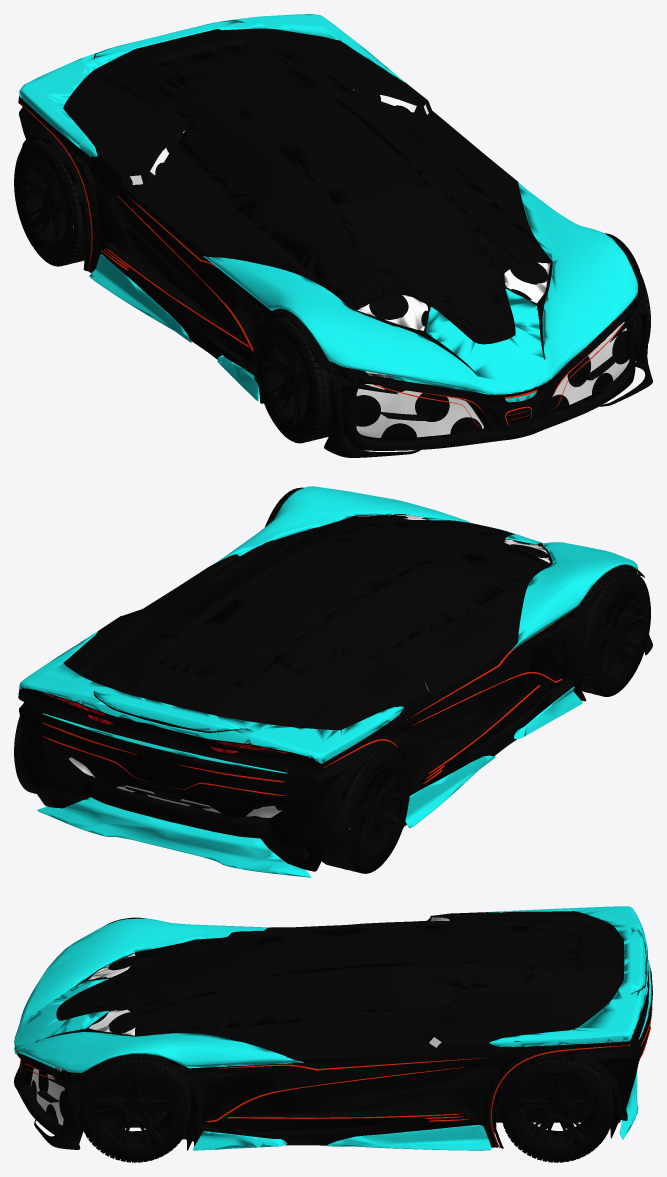
The model's file is neon.glb.
3 views of the same model, one above another, from view 1: azimuth 30°, elevation 25°; view 2: azimuth 150°, elevation 25°; view 3: azimuth 270°, elevation 25° (orthographic). The views are drawn at different scales.
Visible parts, largest first — view 1: Cube_plastic_smooth_0, Cube.006_body_0, tire_001_R17.001_rubber_tires_0, Cube.024_blocker_0, Cube.004_grill_0, tire_001_R17.001_tire_protector_0, Cube.014_red_deco_0; view 2: Cube_plastic_smooth_0, Cube.006_body_0, tire_001_R17.001_rubber_tires_0, tire_001_R17.001_tire_protector_0, Cube.014_red_deco_0, Cube.024_blocker_0, Cube.004_grill_0, Cube.016_taillights_0; view 3: Cube_plastic_smooth_0, Cube.006_body_0, tire_001_R17.001_rubber_tires_0, Cube.024_blocker_0, Cube.014_red_deco_0, Cube.004_grill_0, tire_001_R17.001_tire_protector_0.
Part boxes in pixels (x1,y1,x2,y2): Cube_plastic_smooth_0: [18, 20, 652, 457]; Cube.006_body_0: [19, 14, 638, 402]; tire_001_R17.001_rubber_tires_0: [14, 140, 650, 443]; Cube.024_blocker_0: [71, 28, 633, 438]; Cube.004_grill_0: [129, 89, 629, 437]; tire_001_R17.001_tire_protector_0: [30, 140, 650, 442]; Cube.014_red_deco_0: [18, 101, 622, 426]; Cube_plastic_smooth_0: [18, 487, 652, 871]; Cube.006_body_0: [19, 486, 638, 877]; tire_001_R17.001_rubber_tires_0: [14, 570, 650, 873]; tire_001_R17.001_tire_protector_0: [14, 570, 649, 872]; Cube.014_red_deco_0: [42, 623, 561, 795]; Cube.024_blocker_0: [42, 514, 633, 856]; Cube.004_grill_0: [69, 514, 549, 817]; Cube.016_taillights_0: [43, 693, 289, 753]; Cube_plastic_smooth_0: [14, 911, 652, 1150]; Cube.006_body_0: [14, 906, 651, 1150]; tire_001_R17.001_rubber_tires_0: [79, 1059, 612, 1162]; Cube.024_blocker_0: [31, 911, 629, 1147]; Cube.014_red_deco_0: [15, 1006, 652, 1147]; Cube.004_grill_0: [30, 917, 449, 1125]; tire_001_R17.001_tire_protector_0: [79, 1059, 612, 1108].
Bounding box in the file's own units: 2.33 × 1.13 × 4.37.
9 materials, 3 textured.
